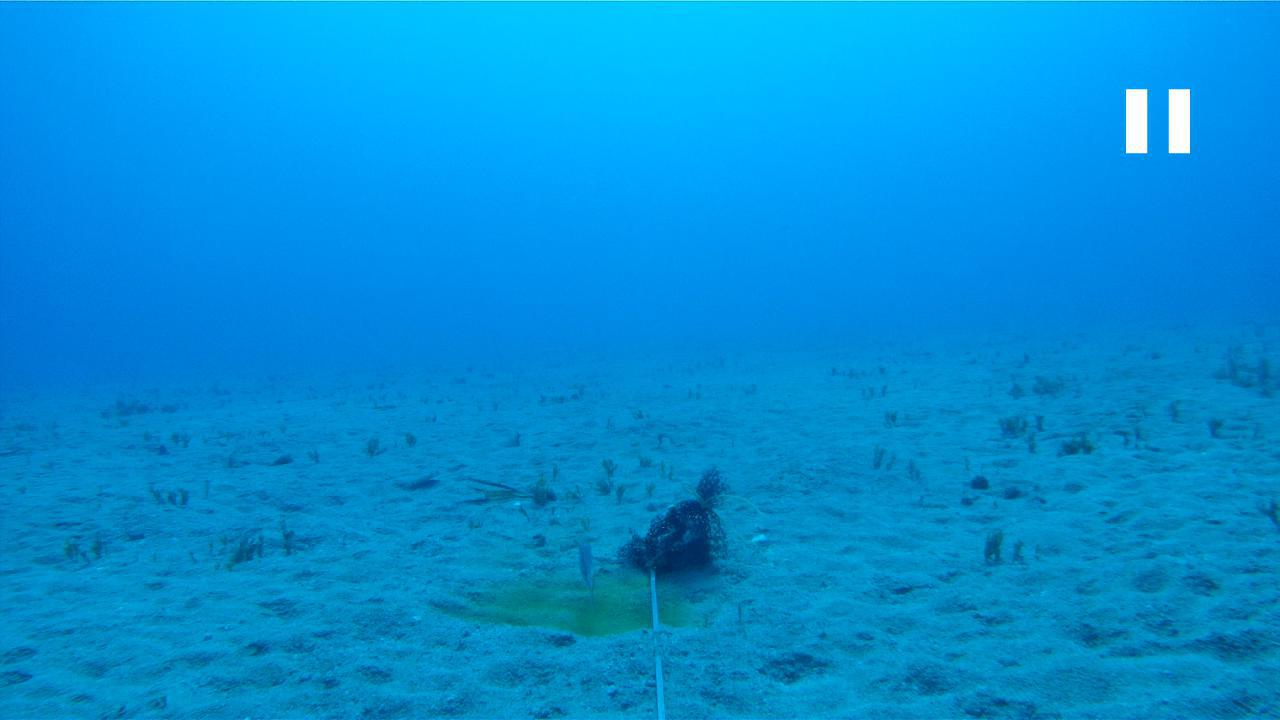bothus: (396, 464, 445, 493)
